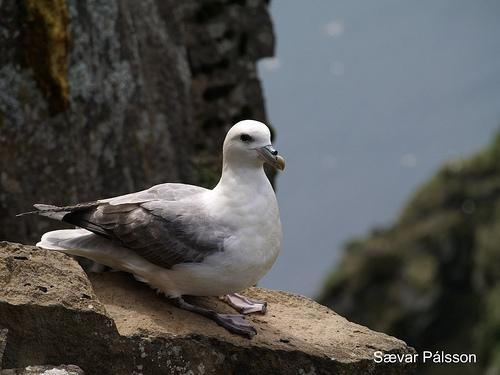bird: (19, 120, 290, 336)
